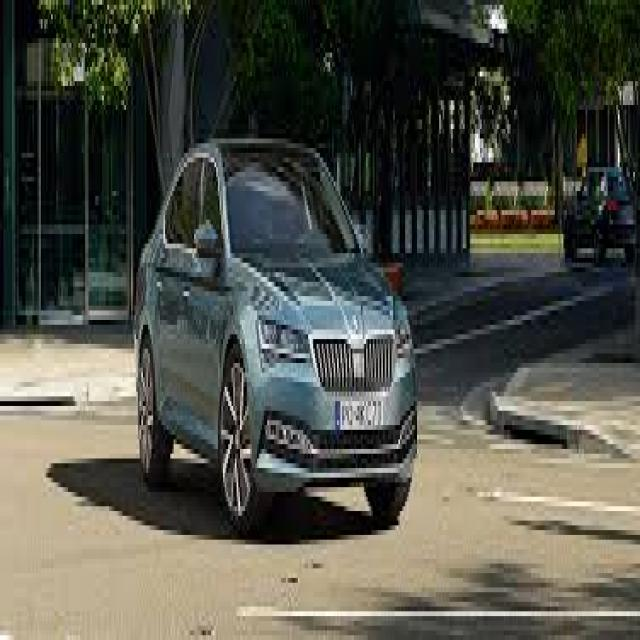number_plate: (335, 400, 384, 430)
